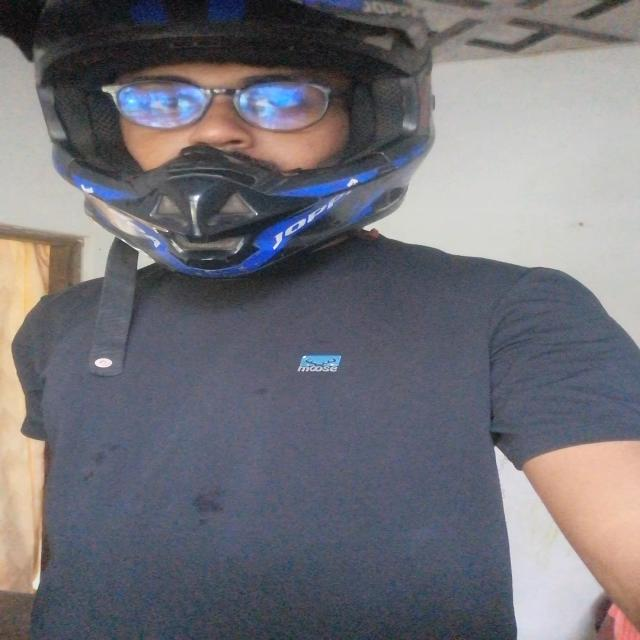Helmet_Wearer: (4, 0, 472, 301)
